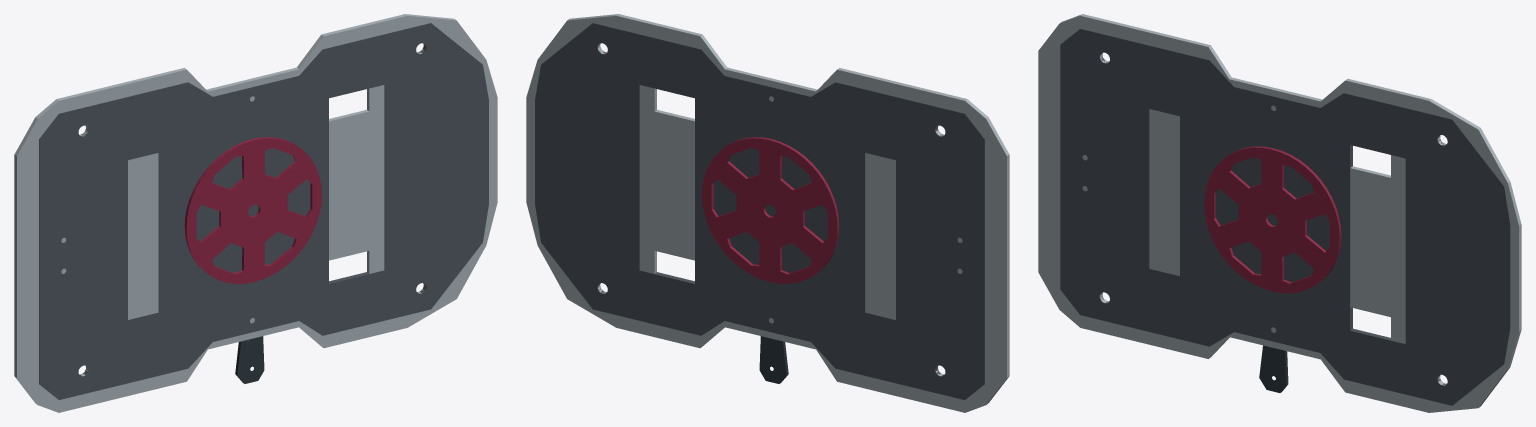
Rendered from mechanical-parts.glb.
3 views of the same model, side by side, from view 1: azimuth 30°, elevation 25°; view 2: azimuth 150°, elevation 25°; view 3: azimuth 330°, elevation 25° (orthographic).
Parts seen in each view (by area): view 1: roverBase, roverDeck, roverHub, pupperFemur; view 2: roverBase, roverDeck, roverHub, pupperFemur; view 3: roverBase, roverDeck, roverHub, pupperFemur.
Boxes of the visible parts, left/top/right/bottom form: roverBase: left=39, top=23, right=488, bottom=399; roverDeck: left=14, top=14, right=497, bottom=412; roverHub: left=184, top=137, right=321, bottom=283; pupperFemur: left=235, top=336, right=264, bottom=383; roverBase: left=535, top=23, right=984, bottom=399; roverDeck: left=526, top=14, right=1009, bottom=412; roverHub: left=702, top=137, right=839, bottom=283; pupperFemur: left=759, top=336, right=788, bottom=383; roverBase: left=1060, top=29, right=1510, bottom=405; roverDeck: left=1038, top=14, right=1521, bottom=412; roverHub: left=1204, top=146, right=1341, bottom=293; pupperFemur: left=1259, top=345, right=1288, bottom=392.
Bounding box in the file's own units: 0.39 × 0.255 × 0.009.
